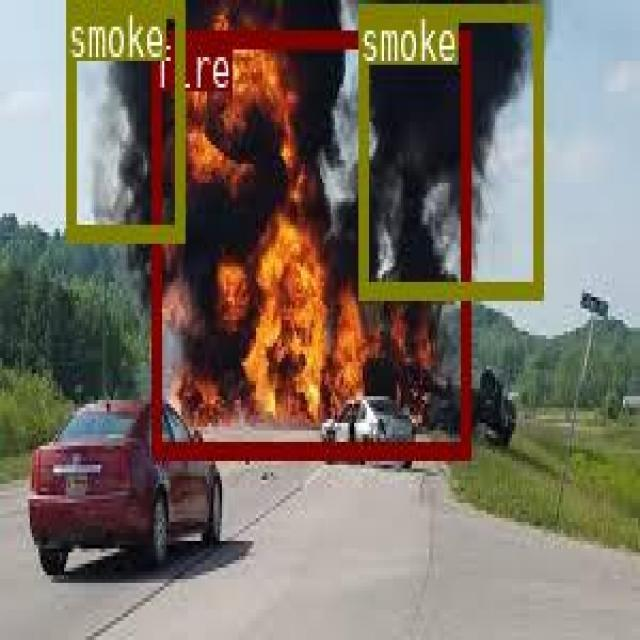fire: (149, 30, 468, 456)
smoke: (358, 0, 541, 296), (65, 0, 182, 240)
